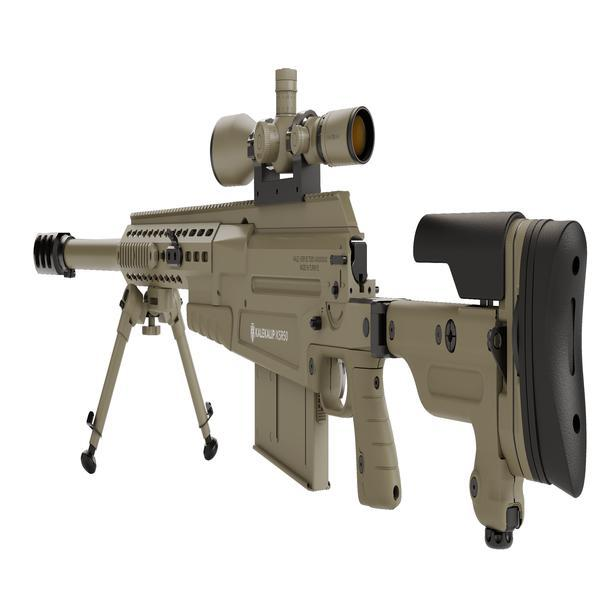Firearm: (26, 59, 600, 583)
